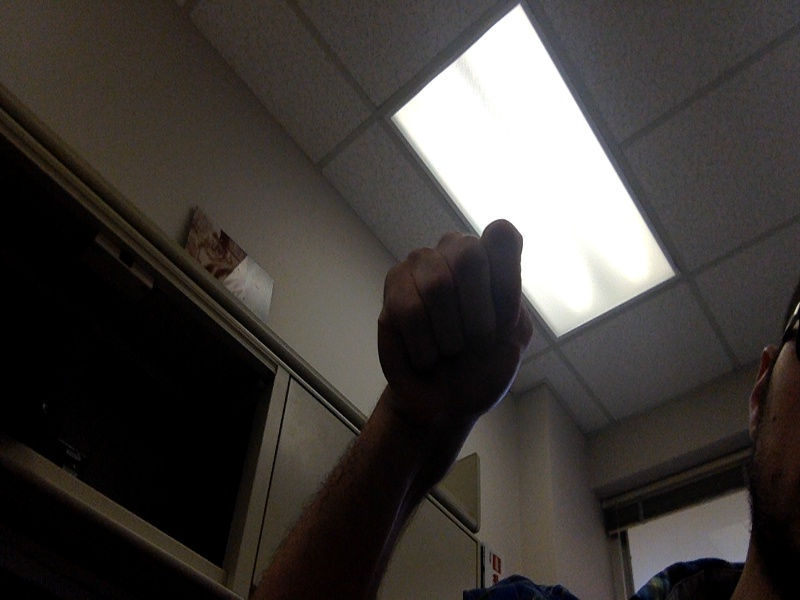0-hand: (378, 223, 537, 427)
